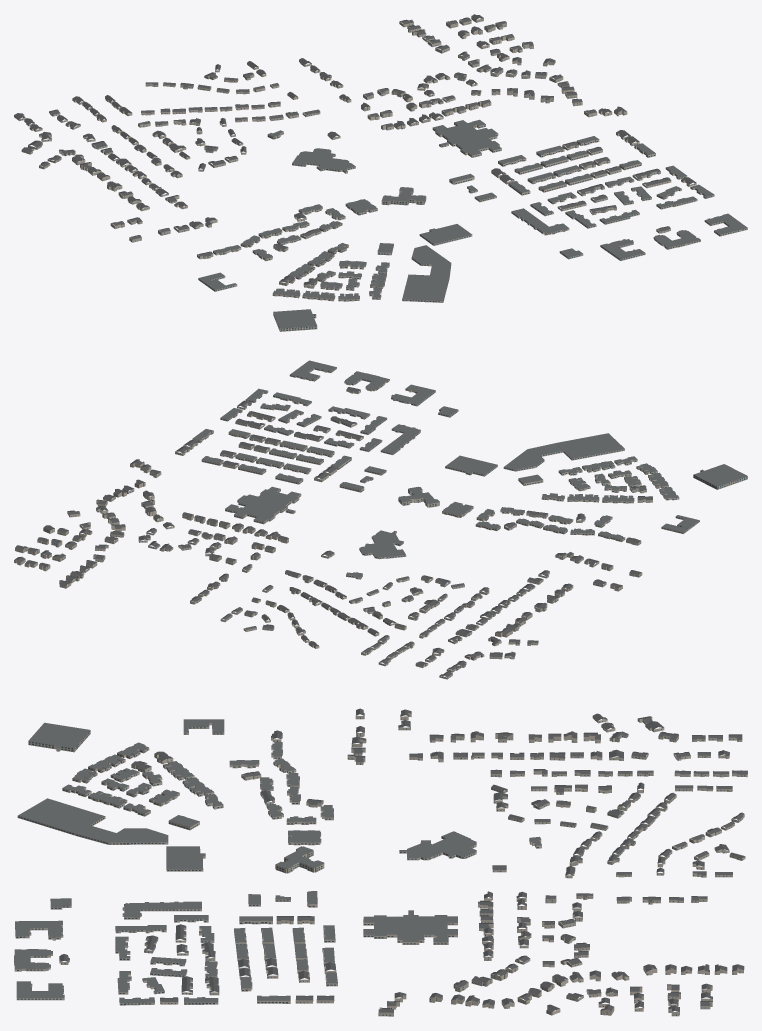
The picture shows the model from 3 angles, top to bottom: view 1: azimuth 30°, elevation 25°; view 2: azimuth 150°, elevation 25°; view 3: azimuth 270°, elevation 25°; orthographic projection. The views are drawn at different scales.
Parts seen in each view (by area): view 1: Buildings (2, 0) Roof membrane, Buildings (2, 0) Masonry brick, Buildings (2, 0) Roof shingles, Buildings (2, 0) House siding, Buildings (2, 0) Architectural tinted glass; view 2: Buildings (2, 0) Roof membrane, Buildings (2, 0) Masonry brick, Buildings (2, 0) Roof shingles, Buildings (2, 0) House siding, Buildings (2, 0) Architectural tinted glass; view 3: Buildings (2, 0) Roof membrane, Buildings (2, 0) Masonry brick, Buildings (2, 0) Roof shingles, Buildings (2, 0) House siding, Buildings (2, 0) Architectural tinted glass, Buildings (2, 0) Metal coping.
Boxes of the visible parts, x1,y1,x2,y2 form: Buildings (2, 0) Roof membrane: [198, 120, 747, 328]; Buildings (2, 0) Masonry brick: [14, 18, 747, 331]; Buildings (2, 0) Roof shingles: [14, 14, 695, 285]; Buildings (2, 0) House siding: [21, 16, 660, 288]; Buildings (2, 0) Architectural tinted glass: [14, 18, 746, 331]; Buildings (2, 0) Roof membrane: [193, 360, 747, 576]; Buildings (2, 0) Masonry brick: [24, 367, 747, 679]; Buildings (2, 0) Roof shingles: [14, 387, 652, 677]; Buildings (2, 0) House siding: [14, 418, 646, 672]; Buildings (2, 0) Architectural tinted glass: [17, 368, 747, 678]; Buildings (2, 0) Roof membrane: [14, 719, 541, 1003]; Buildings (2, 0) Masonry brick: [14, 712, 747, 1015]; Buildings (2, 0) Roof shingles: [59, 708, 747, 1012]; Buildings (2, 0) House siding: [131, 715, 744, 1016]; Buildings (2, 0) Architectural tinted glass: [15, 715, 745, 1015]; Buildings (2, 0) Metal coping: [18, 723, 539, 1003].
Bounding box in the file's own units: 1009 × 12.44 × 1041.
